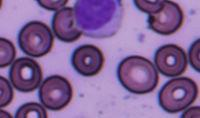L: (74, 0, 123, 37)
